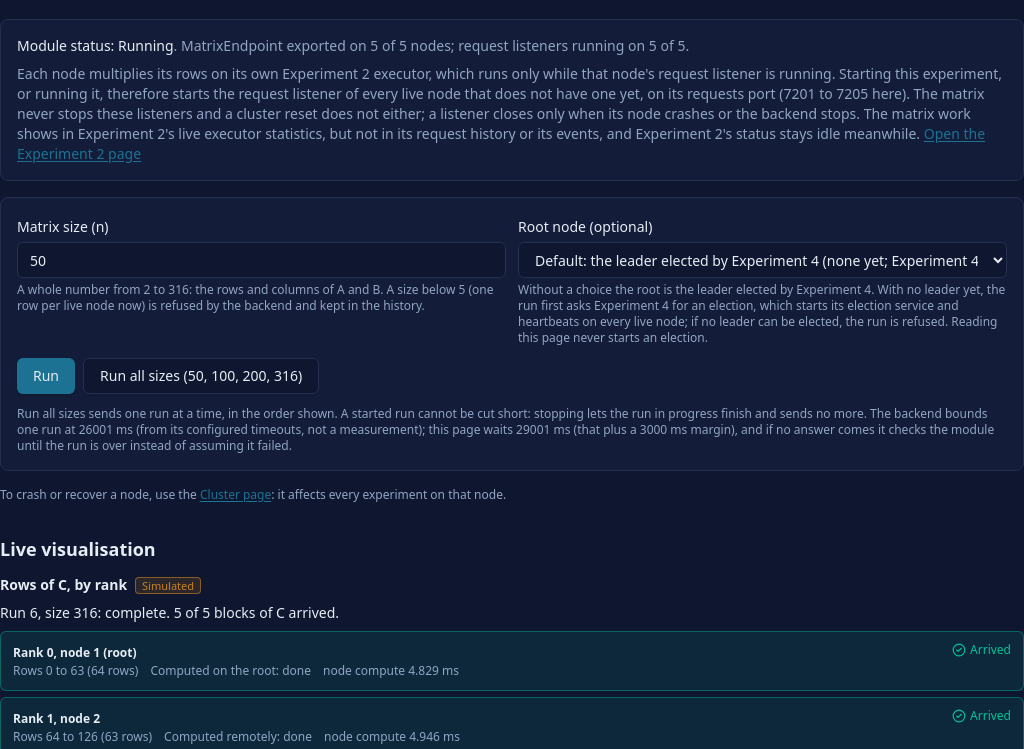
Test case: MatrixPage: running › shows the backend's 400 field error under the size
The image size is (1024, 749).
(page scrolled)
Check: the element with test id "module-status" is shown, box [17,36,689,55]
Step 1. Click the button "Run" → [46, 376], box [17,358,75,394]
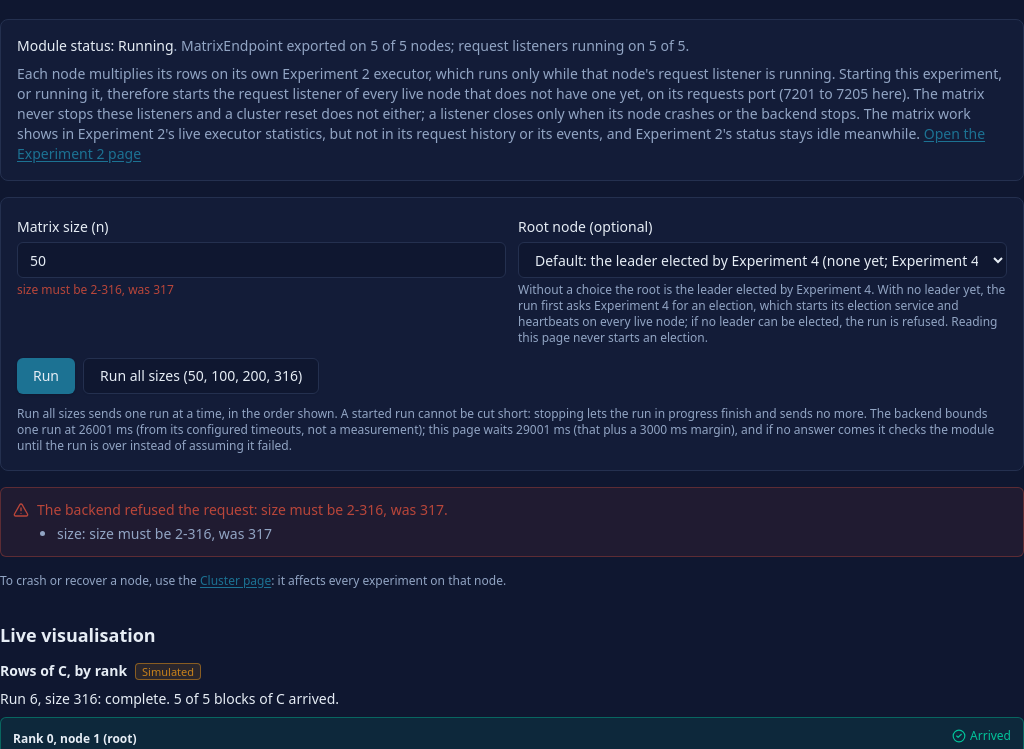
Check: the text with test id "matrix-size-error" reads "size must be 2-316, was 317", box [17,281,174,298]
